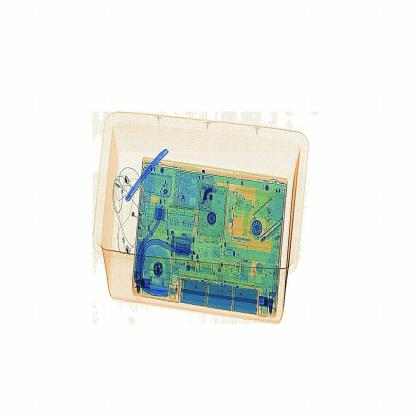pliers: (119, 140, 177, 206)
